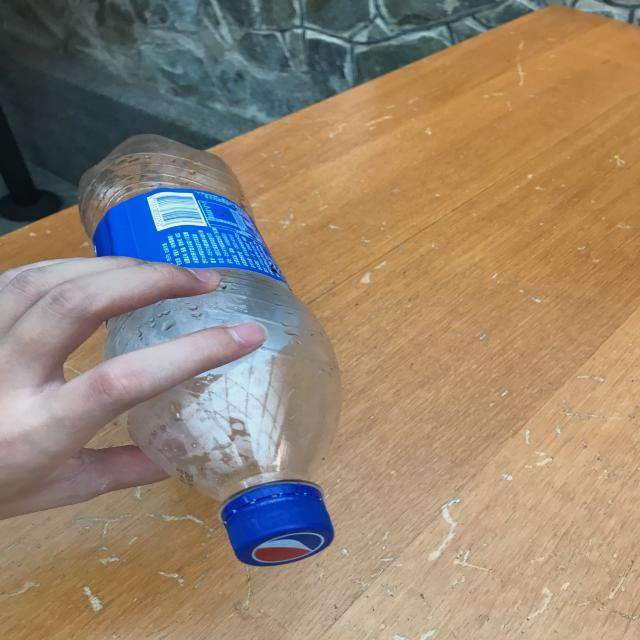plastic_bottle: (78, 134, 342, 566)
